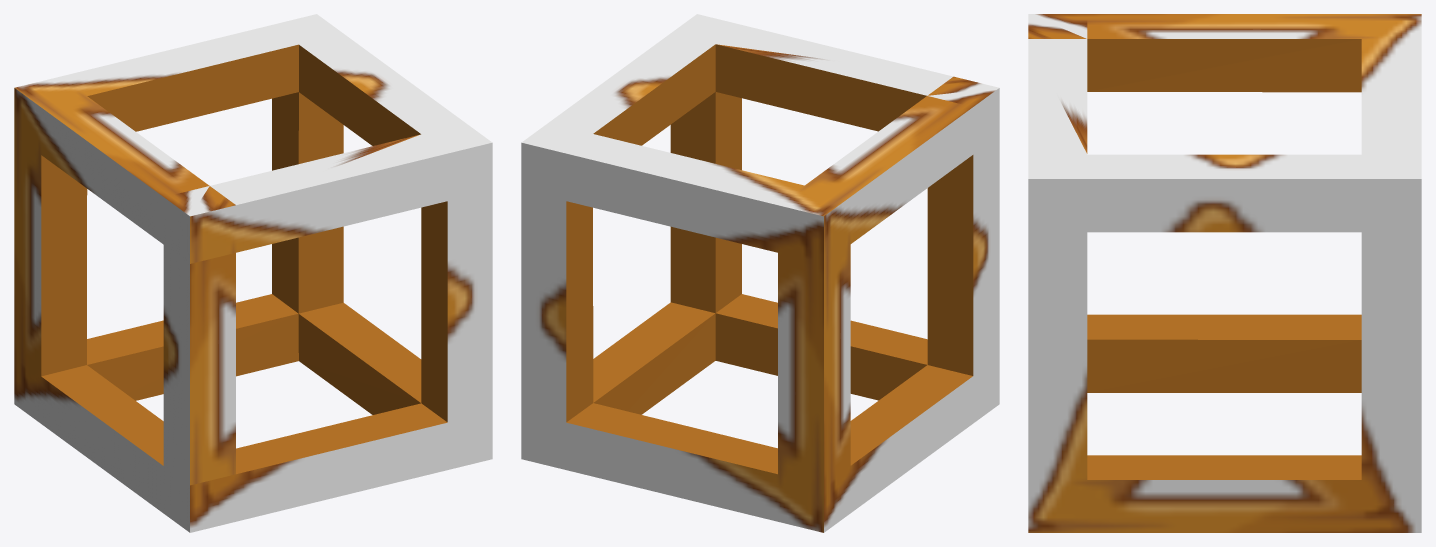
The model's file is glassBox.obj.
3 views of the same model, side by side, from view 1: azimuth 30°, elevation 25°; view 2: azimuth 150°, elevation 25°; view 3: azimuth 270°, elevation 25° (orthographic). The views are drawn at different scales.
Visible parts, largest first — view 1: Cube; view 2: Cube; view 3: Cube.
Part boxes in pixels (x1,y1,x2,y2): Cube: (14, 14, 492, 532); Cube: (521, 14, 999, 532); Cube: (1028, 14, 1421, 532).
Size of the model in its own units: 3.98 by 3.98 by 4.
